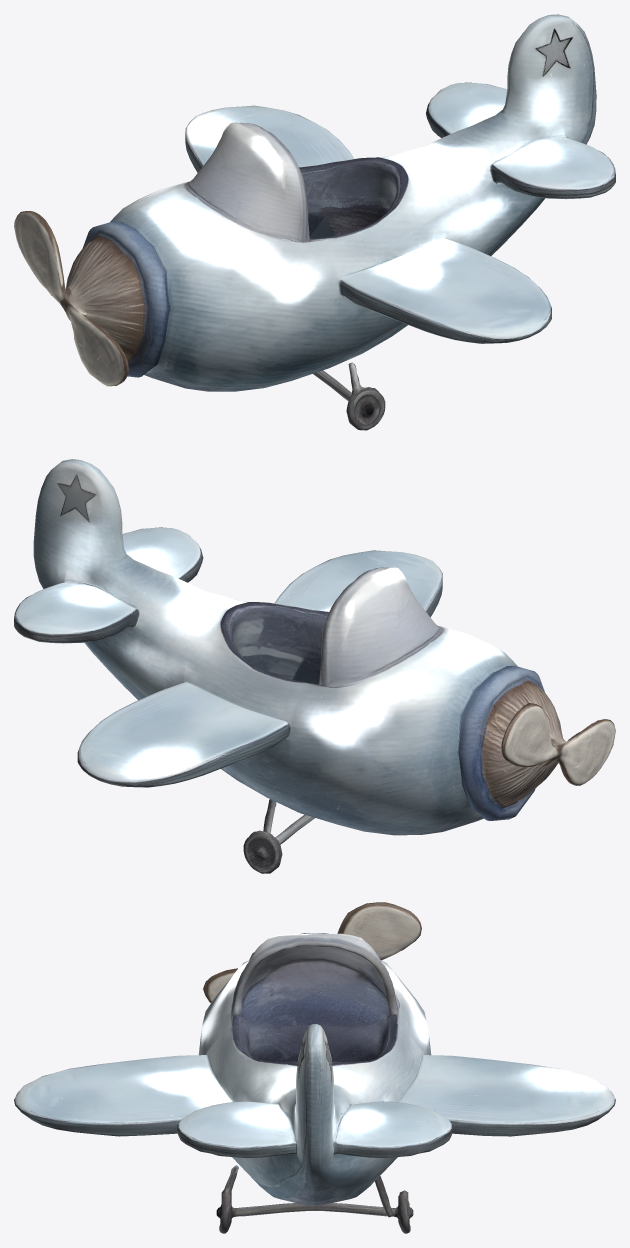
The model's file is starbound-flyer.glb.
The picture shows the model from 3 angles, top to bottom: view 1: azimuth 30°, elevation 25°; view 2: azimuth 150°, elevation 25°; view 3: azimuth 270°, elevation 25°; orthographic projection. The views are drawn at different scales.
Size of the model in its own units: 1.89 by 1.1 by 1.91.
1 material, 1 textured.
